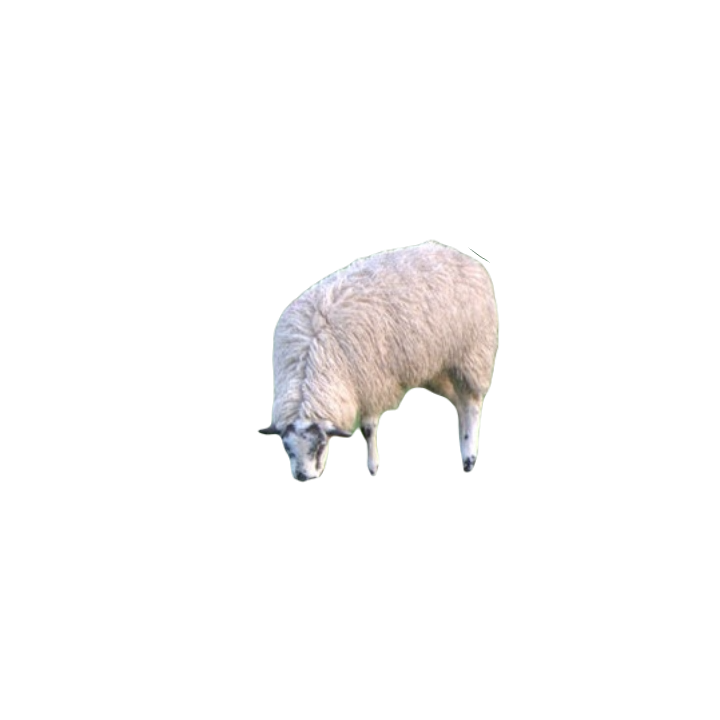Sheep: (249, 236, 505, 485)
